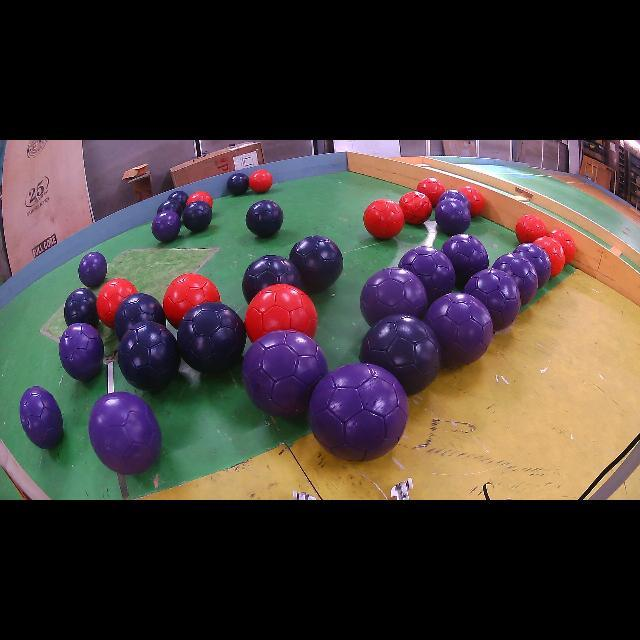B: (360, 315, 441, 395), (178, 302, 246, 374), (118, 321, 180, 391), (289, 235, 344, 292), (242, 255, 304, 302), (114, 292, 166, 339), (245, 200, 284, 238), (64, 288, 99, 328), (182, 200, 212, 231), (226, 174, 249, 195), (158, 200, 182, 218), (168, 191, 189, 209)
P: (309, 362, 409, 461), (242, 330, 328, 418), (89, 391, 161, 475), (424, 292, 494, 366), (360, 268, 428, 326), (464, 268, 520, 331), (399, 246, 455, 305), (20, 386, 64, 449), (59, 322, 104, 380), (441, 234, 489, 286), (492, 252, 538, 306), (514, 242, 551, 288), (435, 199, 471, 235), (79, 251, 108, 286), (151, 210, 181, 242), (439, 189, 471, 211)
R: (245, 284, 318, 341), (164, 274, 220, 328), (96, 279, 138, 329), (364, 199, 405, 239), (532, 236, 565, 278), (399, 191, 432, 224), (515, 214, 548, 244), (548, 229, 576, 263), (416, 178, 445, 206), (459, 186, 485, 216), (249, 170, 272, 192), (186, 191, 212, 208)
